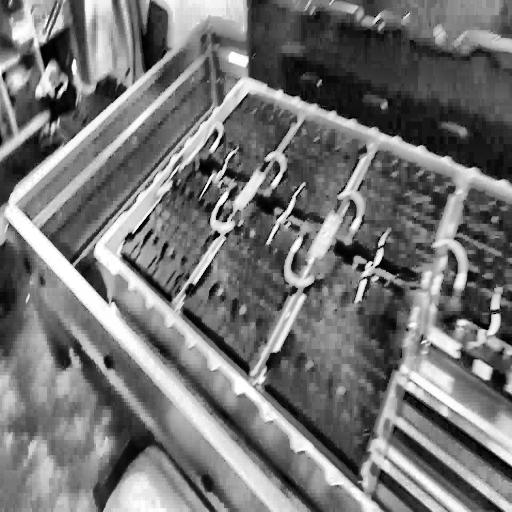high_volt_cable: (148, 111, 471, 307)
